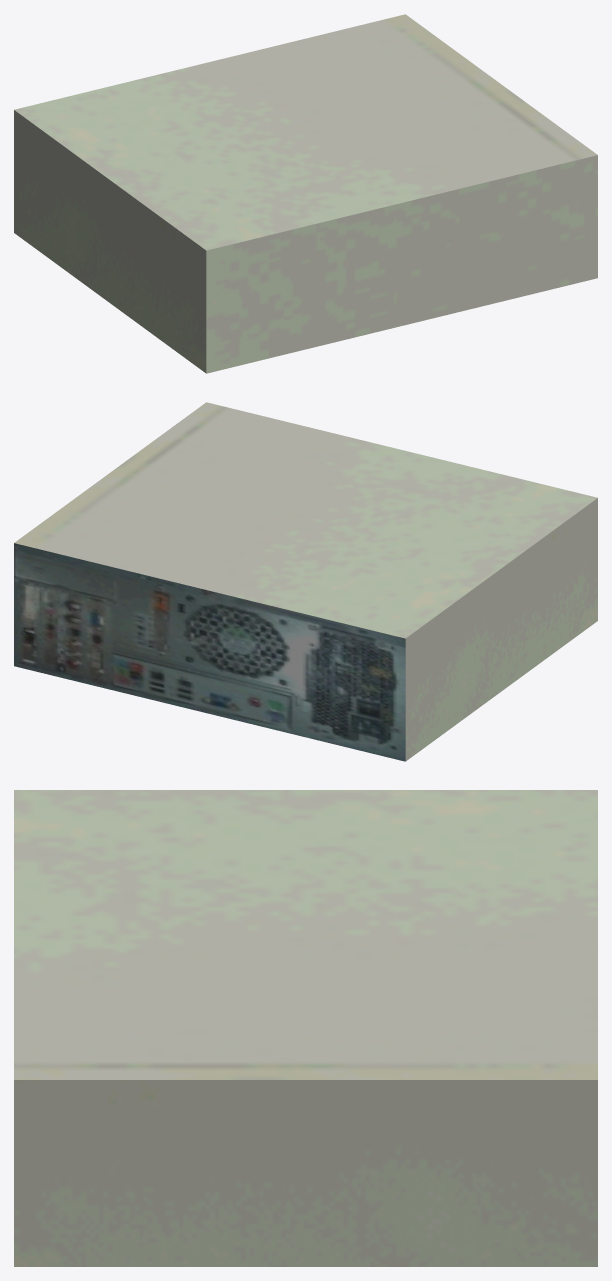
File: horizontal_desktop.fbx
3 renders of one model, top to bottom at view 1: azimuth 30°, elevation 25°; view 2: azimuth 150°, elevation 25°; view 3: azimuth 270°, elevation 25°, orthographic. The views are drawn at different scales.
Visible parts, largest first — view 1: horizontal_desktop; view 2: horizontal_desktop; view 3: horizontal_desktop.
Part boxes in pixels (x1,y1,x2,y2): horizontal_desktop: (14,14,597,373); horizontal_desktop: (14,402,597,761); horizontal_desktop: (14,790,597,1266).
Size of the model in its own units: 68.04 by 20.44 by 57.91.
